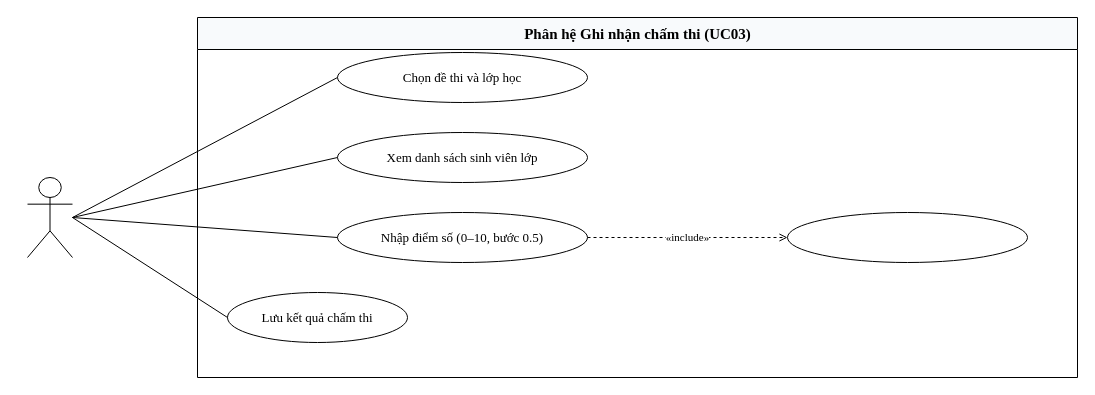
Some shapes in this 1095 by 395 pixel diagram are drawn without their labels. Here are the shapes that lost their labels. From the top down, the centre of each, then its label:
the point at 49,217: Giảng viên
the point at 907,237: Tự động quy đổi điểm chữ A–F (QĐ3)
